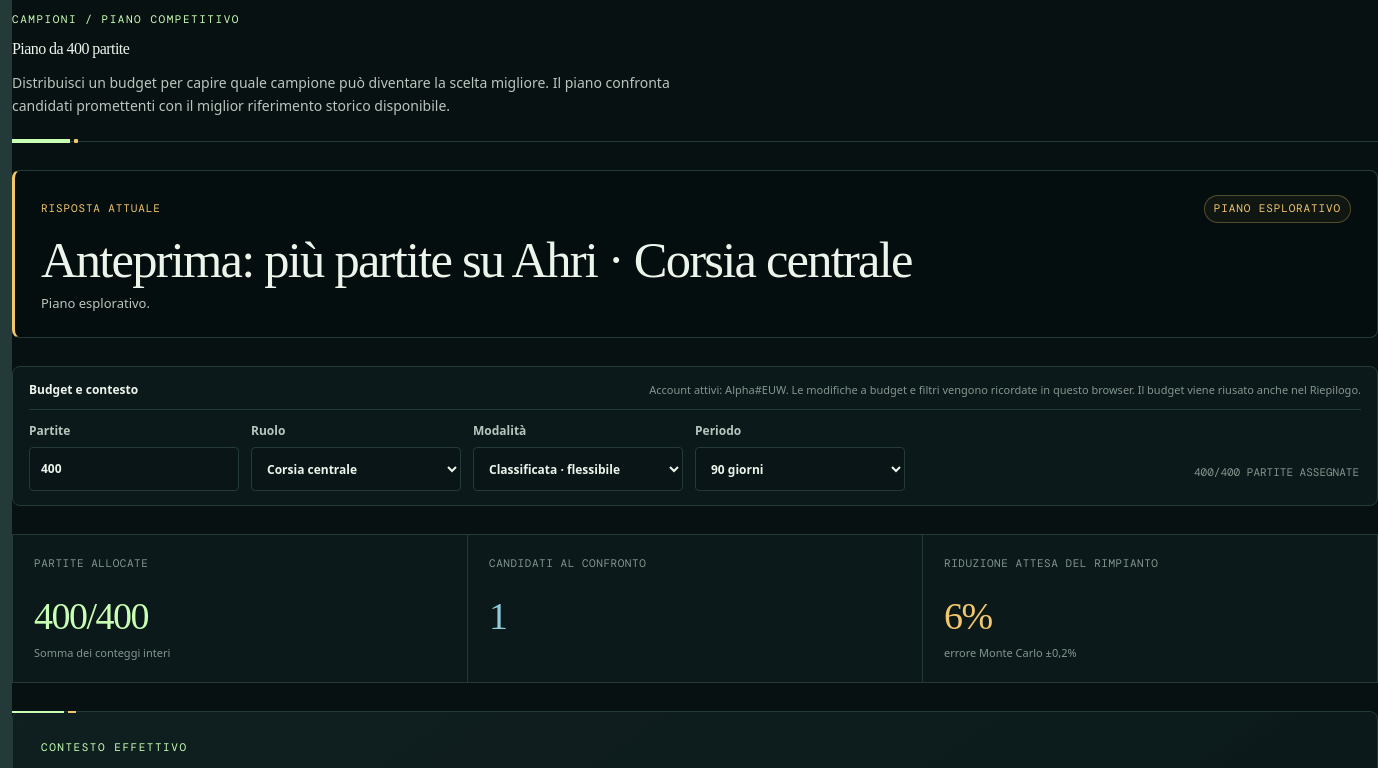
Scenario: piano competitivo › limita il draft 1 soltanto quando perde il focus
Replace the text in the number field named "Budget partite" with "1": (134, 469) [29,447,239,491]
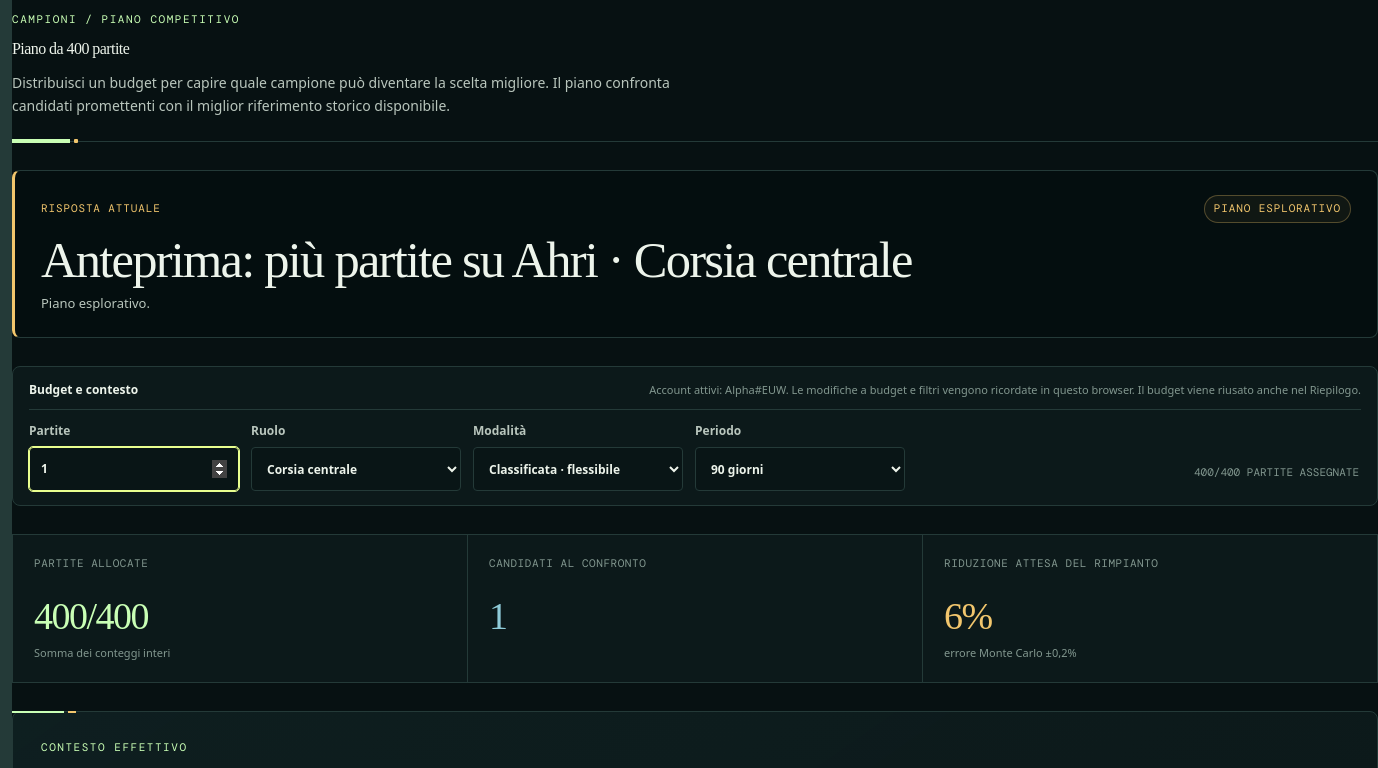
Press Tab
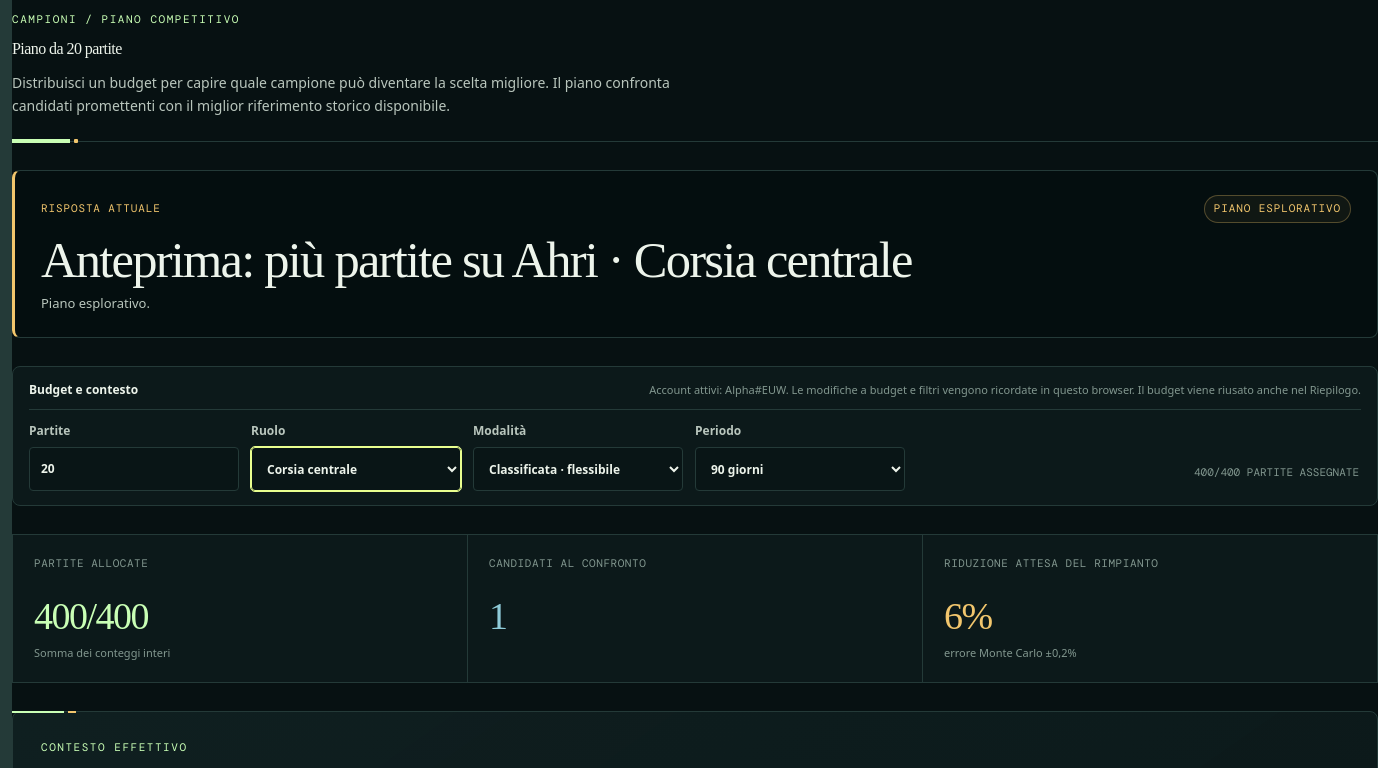
Expected: the number field named "Budget partite" holds "20", [29,447,239,491]
